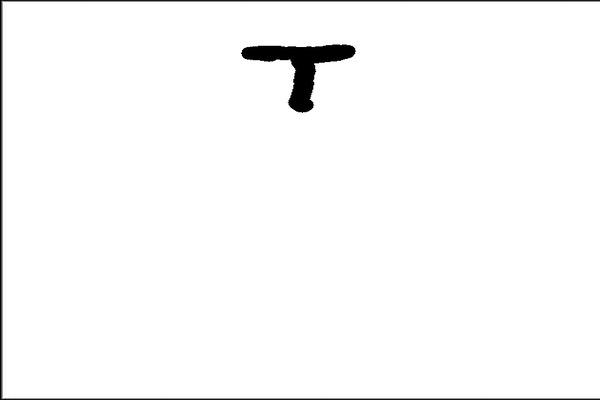T: (227, 33, 367, 115)
